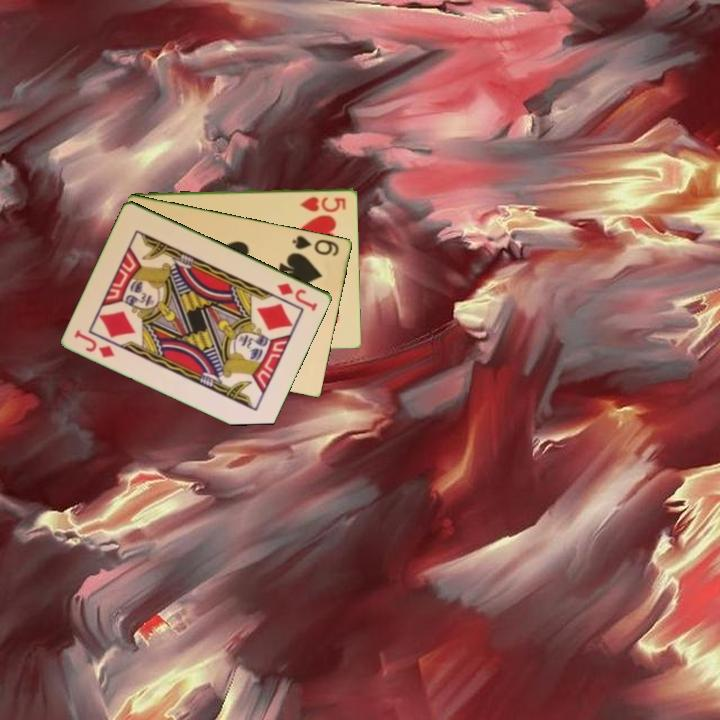5h: (297, 193, 349, 214)
6s: (289, 231, 342, 259)
Jd: (274, 279, 321, 314), (71, 326, 118, 361)
